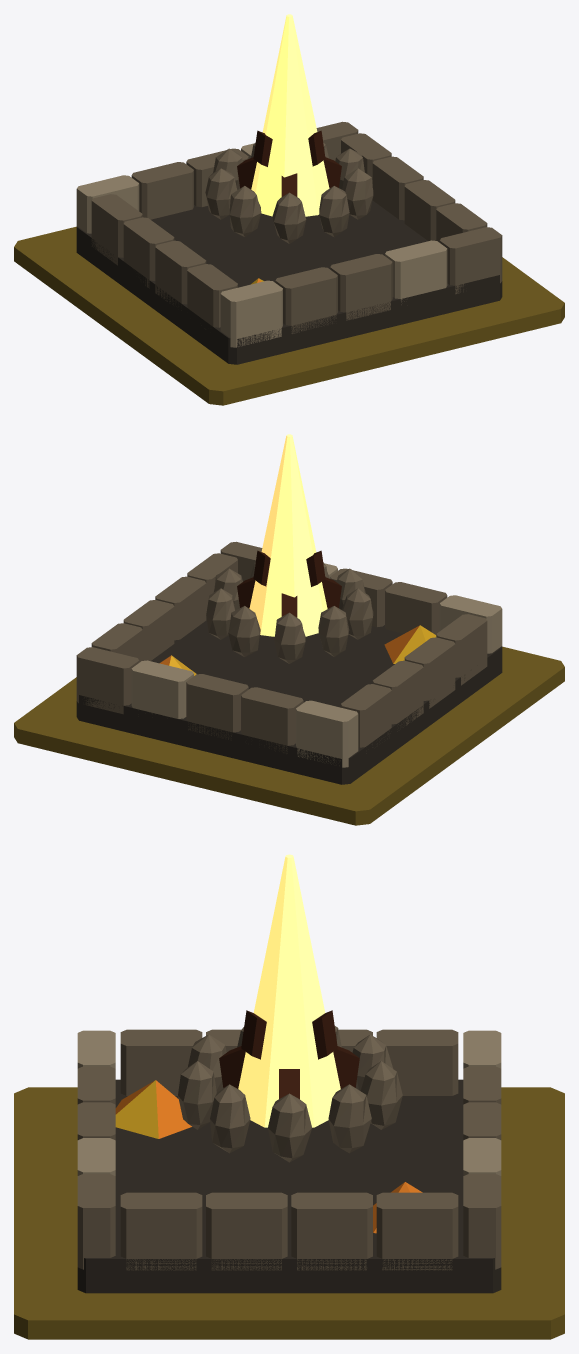
Rendered from watchfire_t1.glb.
The picture shows the model from 3 angles, top to bottom: view 1: azimuth 30°, elevation 25°; view 2: azimuth 150°, elevation 25°; view 3: azimuth 270°, elevation 25°; orthographic projection. The views are drawn at different scales.
Parts seen in each view (by area): view 1: MMR | watchfire | T01 Architecture.001, MMR | watchfire | Tier 01 Ground.001, MMR | watchfire | T01 Flame Glow.001; view 2: MMR | watchfire | T01 Architecture.001, MMR | watchfire | Tier 01 Ground.001, MMR | watchfire | T01 Flame Glow.001, MMR | watchfire | T01 Autumn Dressing.001; view 3: MMR | watchfire | T01 Architecture.001, MMR | watchfire | Tier 01 Ground.001, MMR | watchfire | T01 Flame Glow.001, MMR | watchfire | T01 Autumn Dressing.001.
Boxes of the visible parts, left/top/right/bottom form: MMR | watchfire | T01 Architecture.001: left=76, top=121, right=502, bottom=364; MMR | watchfire | Tier 01 Ground.001: left=14, top=226, right=564, bottom=405; MMR | watchfire | T01 Flame Glow.001: left=251, top=14, right=329, bottom=216; MMR | watchfire | T01 Architecture.001: left=76, top=541, right=502, bottom=784; MMR | watchfire | Tier 01 Ground.001: left=14, top=646, right=564, bottom=825; MMR | watchfire | T01 Flame Glow.001: left=249, top=434, right=327, bottom=636; MMR | watchfire | T01 Autumn Dressing.001: left=159, top=625, right=436, bottom=675; MMR | watchfire | T01 Architecture.001: left=77, top=1010, right=501, bottom=1293; MMR | watchfire | Tier 01 Ground.001: left=14, top=1087, right=564, bottom=1339; MMR | watchfire | T01 Flame Glow.001: left=238, top=854, right=340, bottom=1127; MMR | watchfire | T01 Autumn Dressing.001: left=115, top=1080, right=422, bottom=1233.
Size of the model in its own units: 1.3 by 0.955 by 1.3.
2 materials, 1 textured.
